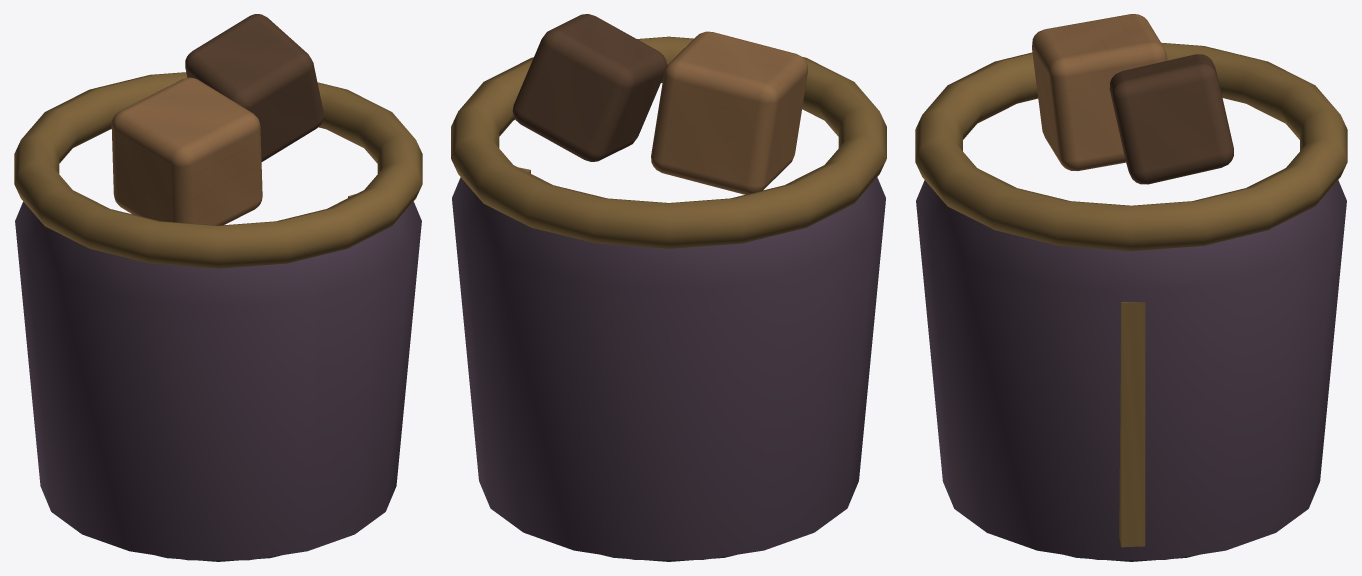
The model's file is sk-household-dice-cup.glb.
The picture shows the model from 3 angles, left to right: view 1: azimuth 30°, elevation 25°; view 2: azimuth 150°, elevation 25°; view 3: azimuth 270°, elevation 25°; orthographic projection. The views are drawn at different scales.
Visible parts, largest first — view 1: dice-cup-body, household:dice_cup-static-metal, dice-cup-die (×2); view 2: dice-cup-body, dice-cup-die (×2), household:dice_cup-static-metal; view 3: dice-cup-body, household:dice_cup-static-metal, dice-cup-die (×2).
Part boxes in pixels (<box>): dice-cup-body: <box>15,201,421,560</box>; household:dice_cup-static-metal: <box>14,72,422,268</box>; dice-cup-die (×2): <box>111,14,323,225</box>; dice-cup-body: <box>452,177,885,559</box>; dice-cup-die (×2): <box>512,14,807,194</box>; household:dice_cup-static-metal: <box>451,36,886,248</box>; dice-cup-body: <box>916,180,1346,559</box>; household:dice_cup-static-metal: <box>915,42,1347,547</box>; dice-cup-die (×2): <box>1032,14,1233,184</box>.
Size of the model in its own units: 0.326 by 0.3859 by 0.321.
5 materials, 5 textured.
